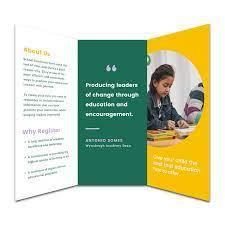paper: (14, 24, 223, 203)
